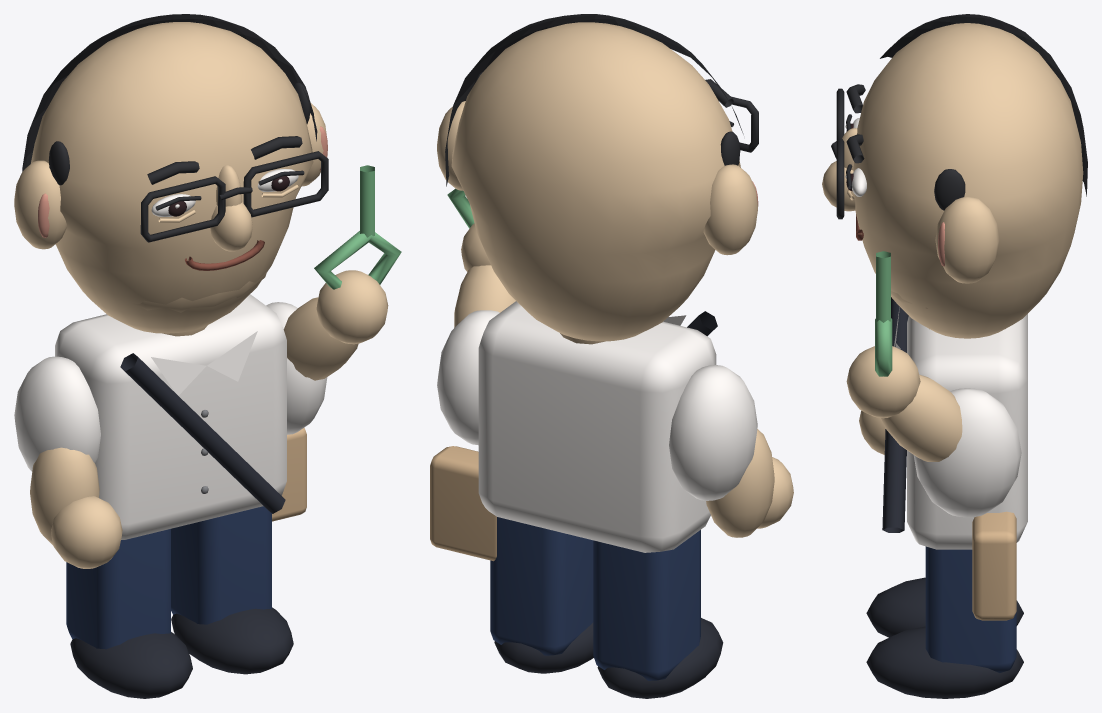
File: longlong-07.glb
3 renders of one model, left to right at view 1: azimuth 30°, elevation 25°; view 2: azimuth 150°, elevation 25°; view 3: azimuth 270°, elevation 25°, orthographic. The views are drawn at different scales.
Parts seen in each view (by area): view 1: Trousers, Side-swept hair; view 2: Trousers, Side-swept hair; view 3: Trousers, Side-swept hair.
Part boxes in pixels (box(x1,y1,x2,y2)): Trousers: box(14, 22, 401, 698); Side-swept hair: box(22, 14, 317, 395); Trousers: box(430, 22, 793, 698); Side-swept hair: box(445, 14, 743, 325); Trousers: box(822, 23, 1083, 698); Side-swept hair: box(880, 14, 1087, 349).
Size of the model in its own units: 1.66 by 3 by 1.13.
2 materials, 2 textured.
